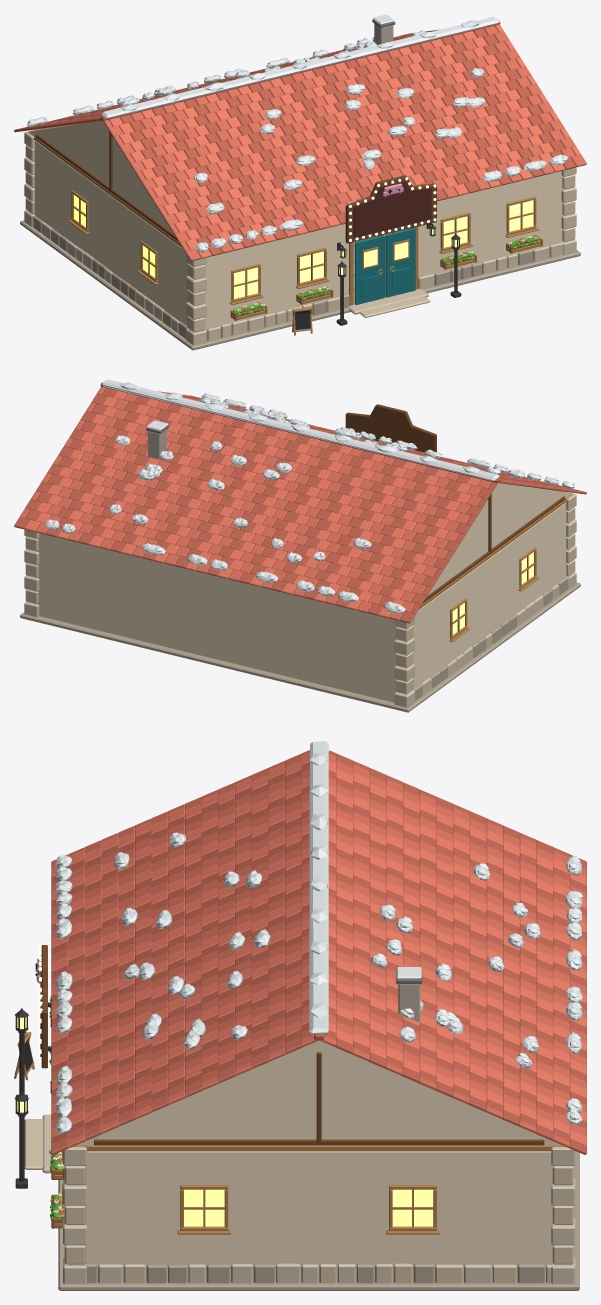
Rendered from arcade_exterior.glb.
3 views of the same model, one above another, from view 1: azimuth 30°, elevation 25°; view 2: azimuth 150°, elevation 25°; view 3: azimuth 270°, elevation 25° (orthographic). The views are drawn at different scales.
Visible parts, largest first — view 1: arcade_exterior, part_door_r, part_door_l; view 2: arcade_exterior; view 3: arcade_exterior.
Part boxes in pixels (bbox=[...]): arcade_exterior: bbox=[14, 14, 586, 350]; part_door_r: bbox=[385, 227, 415, 297]; part_door_l: bbox=[354, 235, 384, 304]; arcade_exterior: bbox=[14, 379, 586, 712]; arcade_exterior: bbox=[14, 741, 586, 1290].
Bounding box in the file's own units: 13.28 × 5.67 × 10.99.
